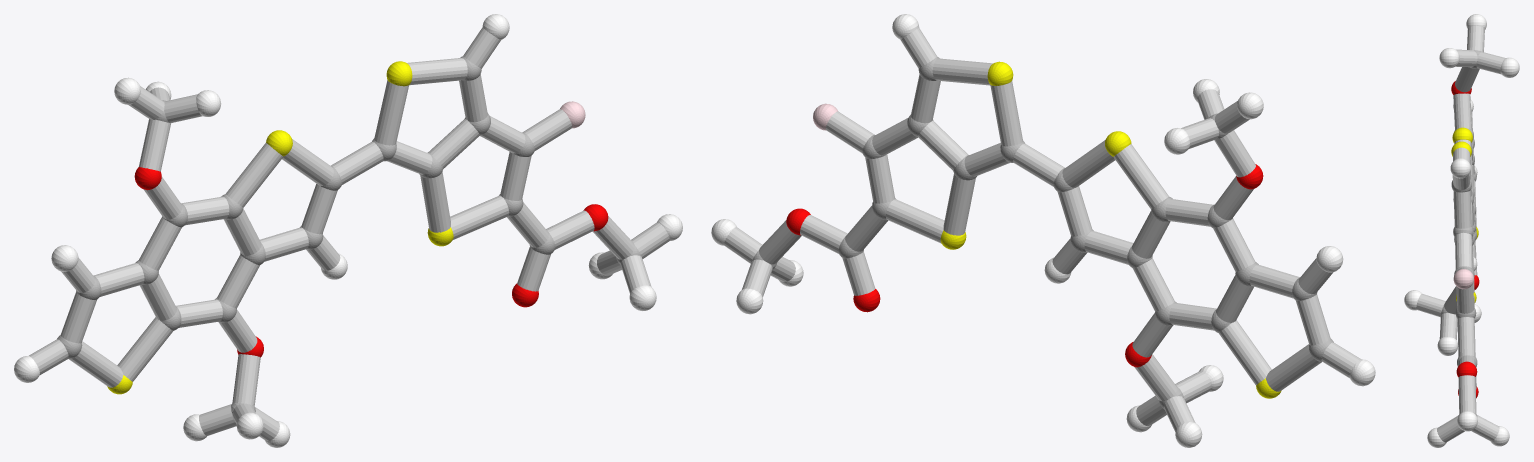
Rendered from Dimethoxy_Benzodithiophene_Phi_0_Theta_180_Methylcarbonyl_3_Fluoro_Thienothiophene.glb.
The picture shows the model from 3 angles, left to right: view 1: azimuth 30°, elevation 25°; view 2: azimuth 150°, elevation 25°; view 3: azimuth 270°, elevation 25°; orthographic projection. The views are drawn at different scales.
Parts seen in each view (by area): view 1: grp15205, grp8689, grp1, grp7241, grp13395; view 2: grp15205, grp8689, grp1, grp7241, grp13395; view 3: grp15205, grp8689, grp1, grp13395, grp7241, grp14843.
Part boxes in pixels (x1,y1,x2,y2): grp15205: (29, 27, 669, 441); grp8689: (14, 14, 682, 447); grp1: (57, 56, 641, 413); grp7241: (107, 61, 453, 394); grp13395: (134, 167, 608, 357); grp15205: (724, 28, 1360, 432); grp8689: (711, 14, 1375, 447); grp1: (752, 57, 1333, 409); grp7241: (940, 61, 1281, 398); grp13395: (786, 164, 1263, 367); grp15205: (1416, 25, 1505, 442); grp8689: (1404, 14, 1519, 447); grp1: (1441, 50, 1481, 417); grp13395: (1451, 81, 1479, 398); grp7241: (1451, 127, 1478, 302); grp14843: (1453, 269, 1474, 289).
Bounding box in the file's own units: 16.97 × 9.39 × 3.36.
